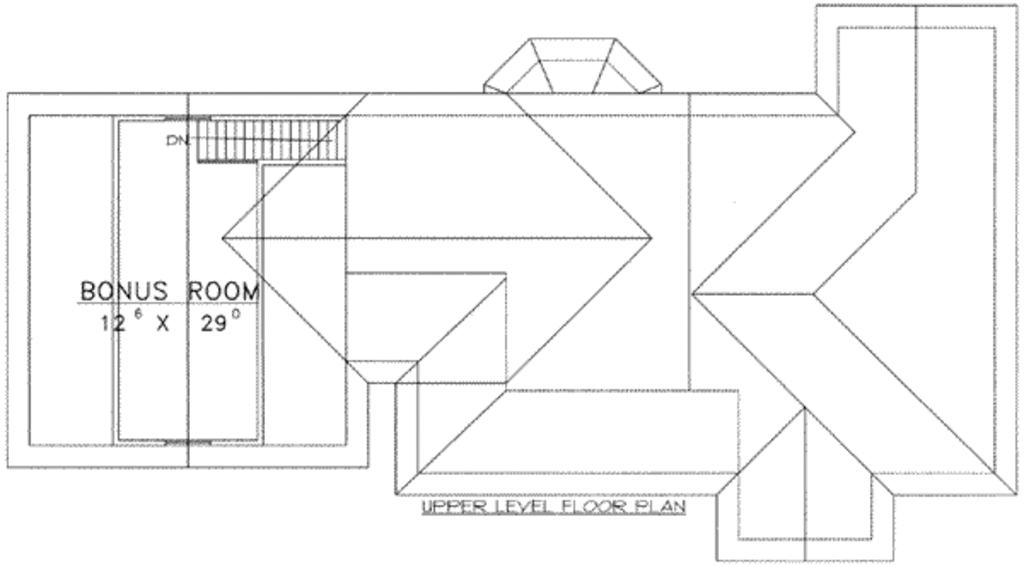stairs: (190, 118, 361, 167)
